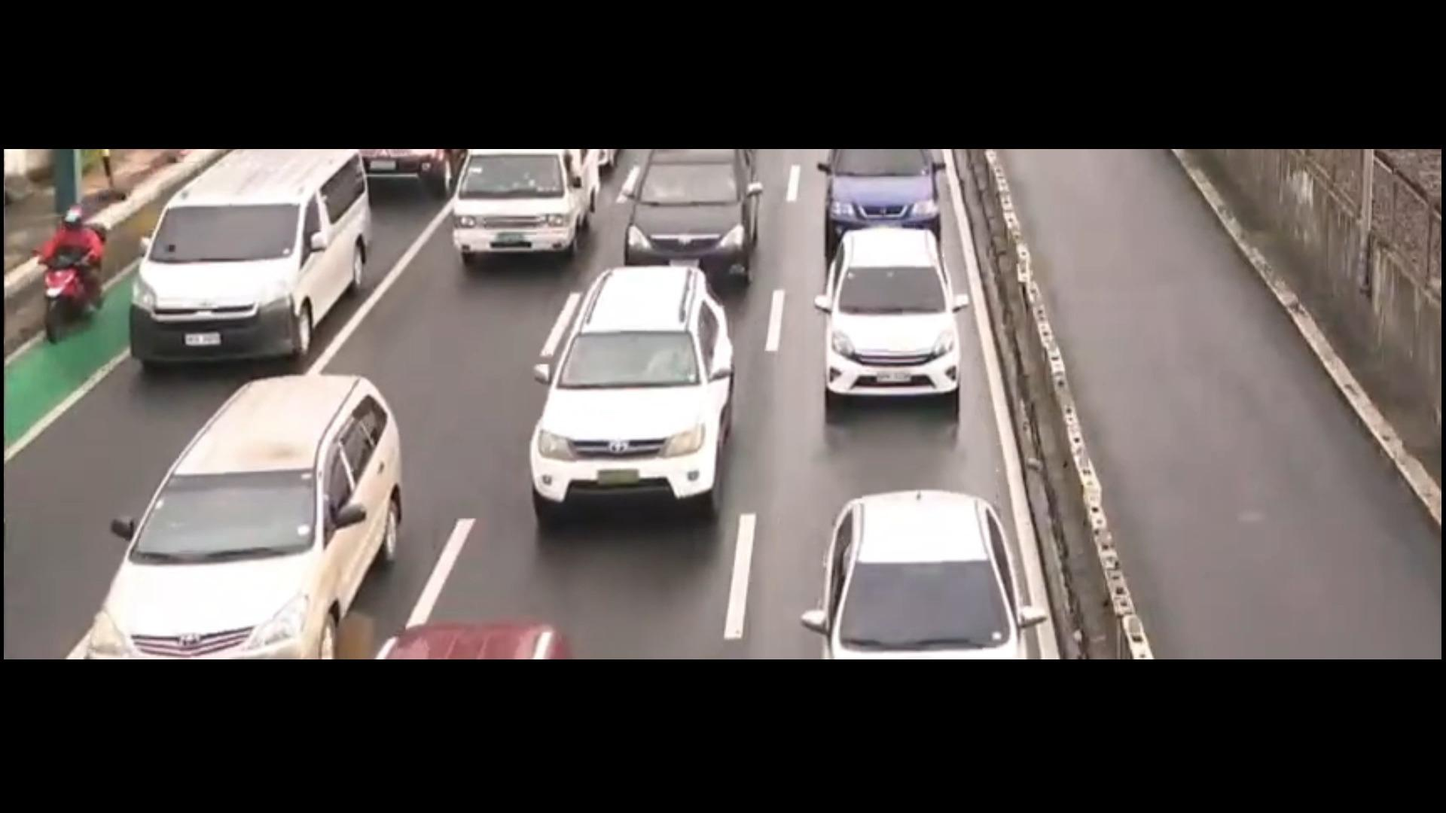Motorcycle: (18, 187, 100, 333)
Multicab: (445, 145, 612, 269)
SUV: (62, 369, 433, 663), (492, 249, 772, 550), (792, 224, 991, 413), (608, 143, 776, 308), (811, 145, 972, 244)
Sedan: (792, 479, 1049, 658)
Van: (96, 144, 372, 392)
